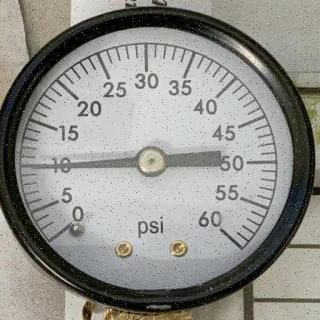gauge: (0, 0, 320, 319), (50, 210, 86, 244), (136, 145, 168, 178), (207, 216, 241, 246), (19, 158, 37, 172)
